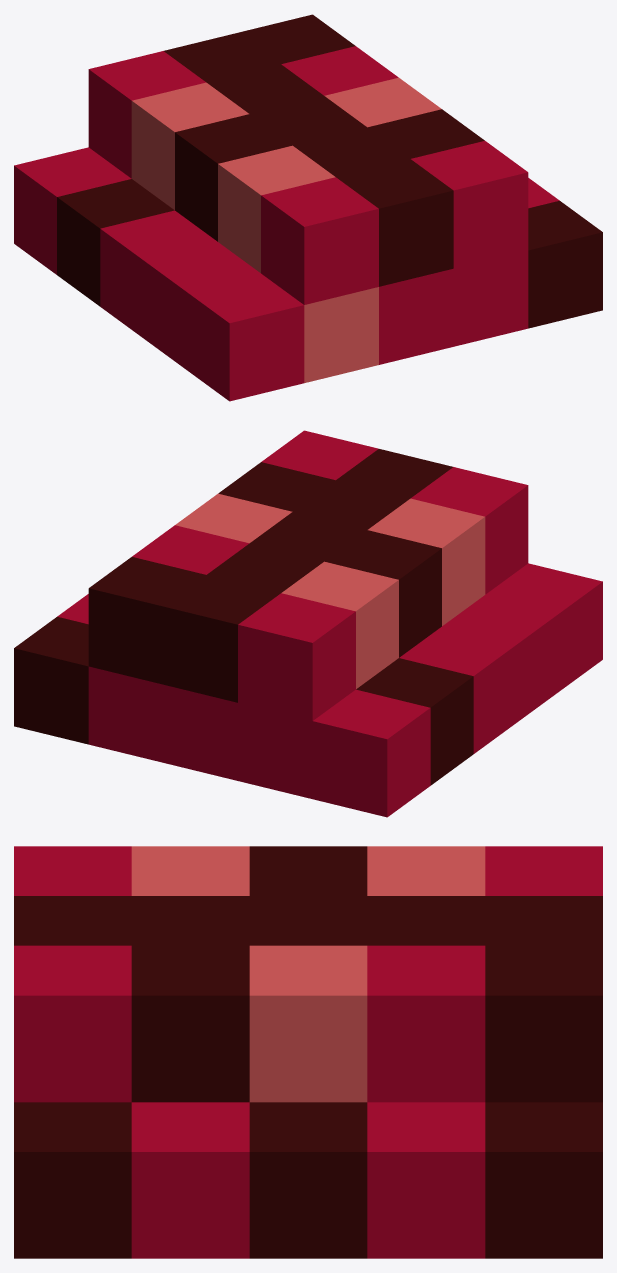
Rendered from Brain.fbx.
3 views of the same model, one above another, from view 1: azimuth 30°, elevation 25°; view 2: azimuth 150°, elevation 25°; view 3: azimuth 270°, elevation 25° (orthographic). The views are drawn at different scales.
Visible parts, largest first — view 1: Yeti_Brain; view 2: Yeti_Brain; view 3: Yeti_Brain.
Boxes of the visible parts, x1,y1,x2,y2 form: Yeti_Brain: (14, 14, 602, 401); Yeti_Brain: (14, 430, 602, 817); Yeti_Brain: (14, 846, 602, 1258).
Size of the model in its own units: 50 by 20 by 50.
